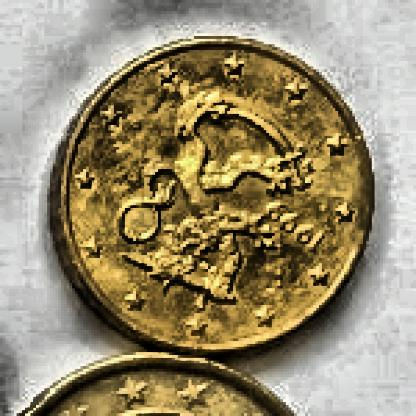coin: (53, 36, 370, 352)
